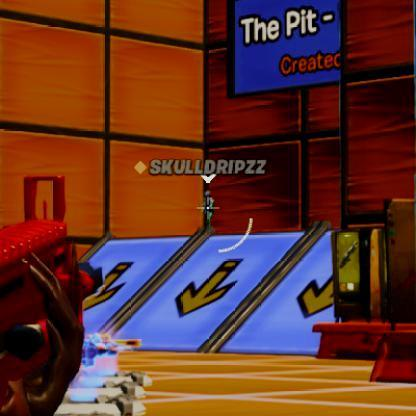person: (201, 194, 217, 230)
